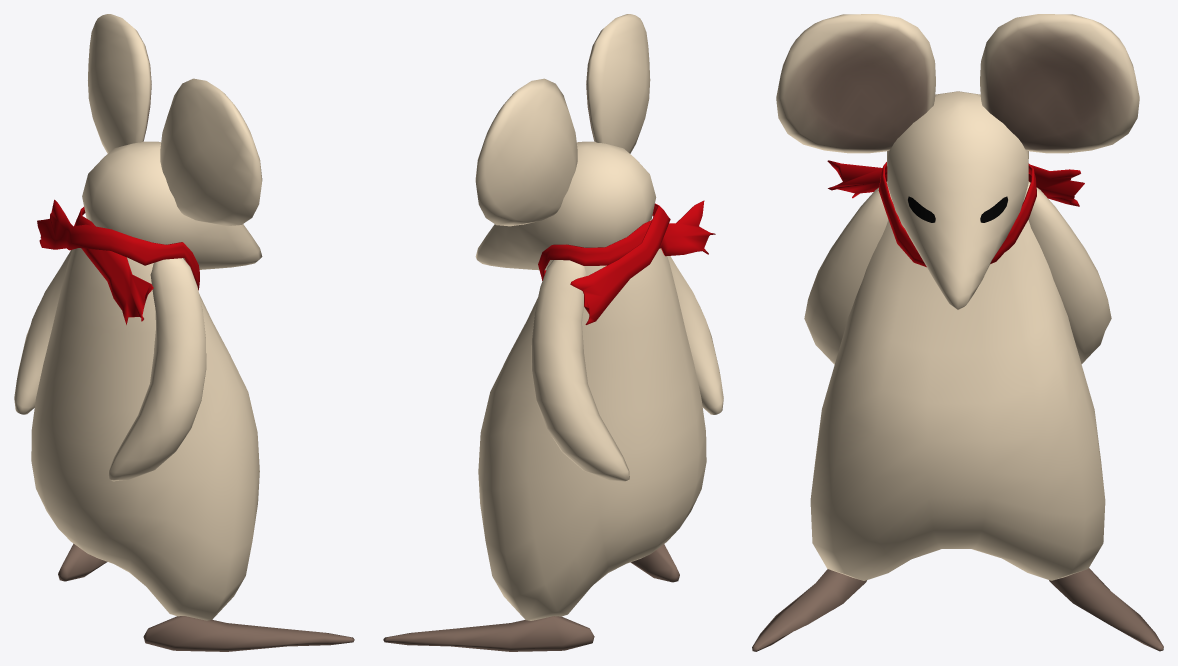
Rendered from patrolrat_notail.fbx.
3 views of the same model, side by side, from view 1: azimuth 30°, elevation 25°; view 2: azimuth 150°, elevation 25°; view 3: azimuth 270°, elevation 25° (orthographic). The views are drawn at different scales.
Visible parts, largest first — view 1: head.005, head.003, head.010, head; view 2: head.005, head.003, head.010, head; view 3: head.005, head.003, head, head.010.
Boxes of the visible parts, left/top/right/bottom form: head.005: left=14, top=248, right=259, bottom=620; head.003: left=88, top=14, right=262, bottom=225; head.010: left=37, top=199, right=354, bottom=651; head: left=82, top=141, right=262, bottom=269; head.005: left=478, top=220, right=723, bottom=620; head.003: left=475, top=14, right=650, bottom=226; head.010: left=383, top=200, right=715, bottom=651; head: left=475, top=141, right=656, bottom=270; head.005: left=804, top=181, right=1111, bottom=580; head.003: left=776, top=14, right=1139, bottom=153; head: left=887, top=91, right=1028, bottom=309; head.010: left=752, top=160, right=1163, bottom=651.
Size of the model in its own units: 226 by 565 by 354.
Materials: 6 (1 with a texture image).
